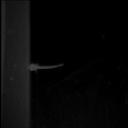fish: (28, 62, 64, 72)
